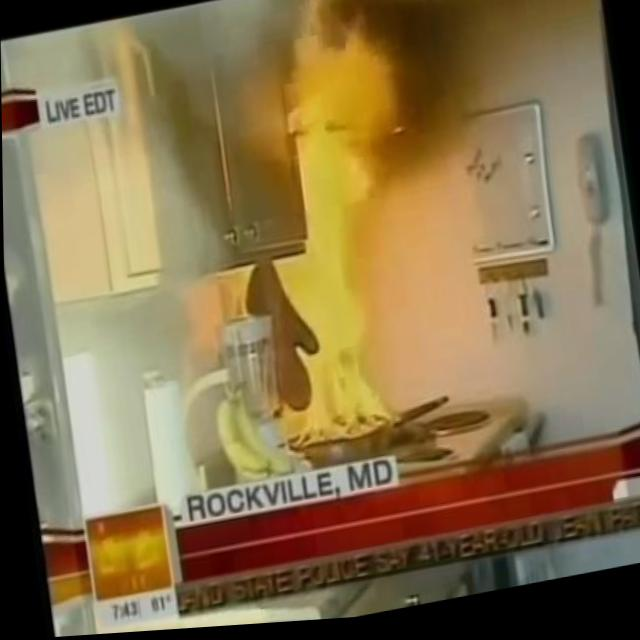fire: (245, 197, 398, 464)
